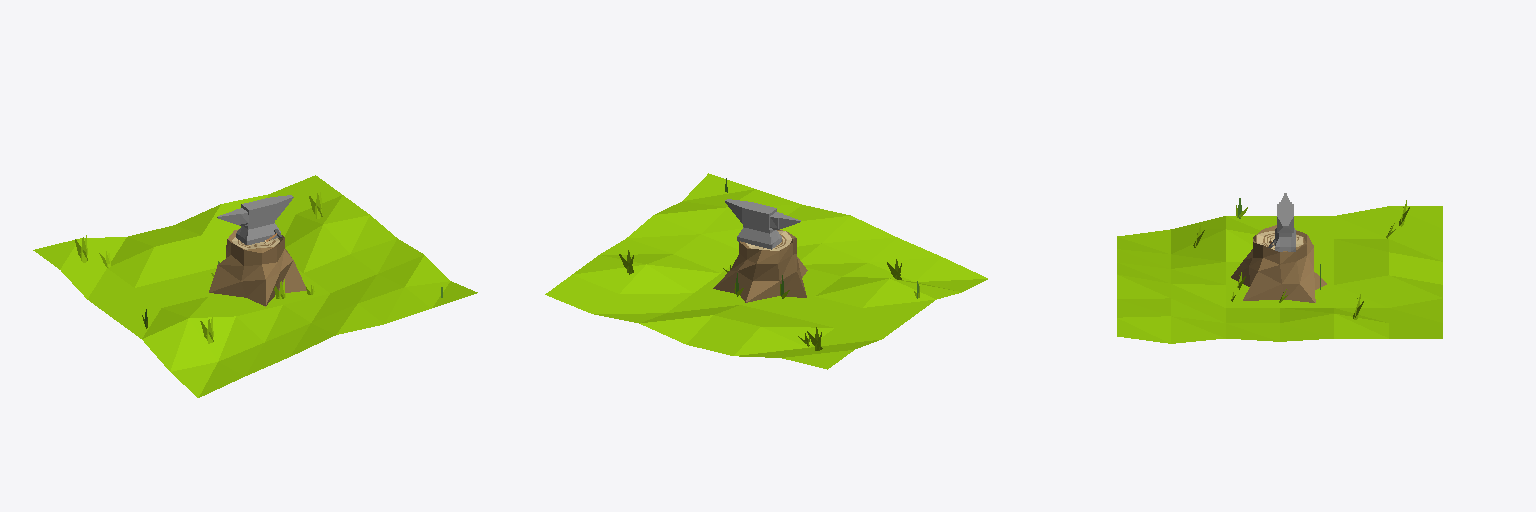
The picture shows the model from 3 angles: view 1: azimuth 30°, elevation 25°; view 2: azimuth 150°, elevation 25°; view 3: azimuth 270°, elevation 25°; orthographic projection.
Visible parts, largest first — view 1: pPlane1, pCylinder1, pCube3; view 2: pPlane1, pCylinder1, pCube3; view 3: pPlane1, pCylinder1, pCube3.
Boxes of the visible parts, box(x1,y1,x2,y2) form: pPlane1: box(33, 175, 477, 397); pCylinder1: box(209, 229, 306, 306); pCube3: box(217, 195, 293, 244); pPlane1: box(545, 173, 987, 369); pCylinder1: box(713, 230, 807, 302); pCube3: box(725, 199, 800, 249); pPlane1: box(1117, 206, 1442, 343); pCylinder1: box(1231, 225, 1326, 302); pCube3: box(1275, 193, 1295, 251).
Bounding box in the file's own units: 25.31 × 8.31 × 25.31.
Materials: 1 (1 with a texture image).